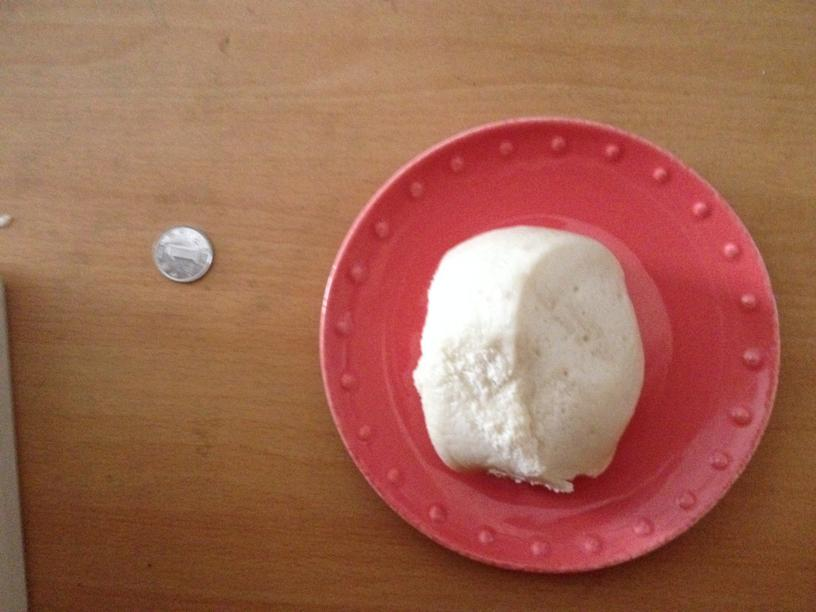bun: (417, 229, 644, 484)
coin: (152, 225, 212, 285)
